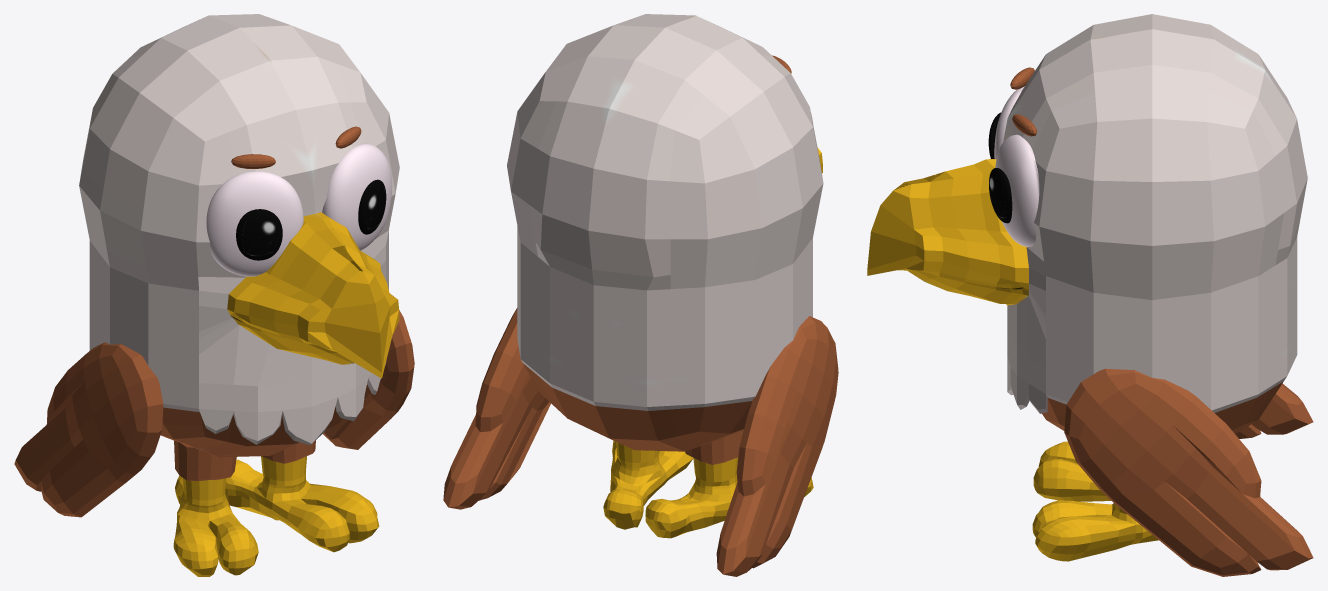
Rendered from aguia_final.glb.
3 renders of one model, left to right at view 1: azimuth 30°, elevation 25°; view 2: azimuth 150°, elevation 25°; view 3: azimuth 270°, elevation 25°, orthographic.
Parts seen in each view (by area): view 1: Cube, Cube.004, Cube.006, Cube.002, Cube.005, Cube.008, Cube.007, Cube.003; view 2: Cube, Cube.004, Cube.007, Cube.005, Cube.006; view 3: Cube, Cube.007, Cube.006, Cube.008, Cube.005, Cube.004, Cube.002.
Boxes of the visible parts, left/top/right/bottom form: Cube: left=79, top=14, right=399, bottom=457; Cube.004: left=14, top=342, right=163, bottom=517; Cube.006: left=225, top=440, right=379, bottom=552; Cube.002: left=206, top=171, right=303, bottom=276; Cube.005: left=173, top=440, right=258, bottom=576; Cube.008: left=322, top=143, right=391, bottom=250; Cube.007: left=323, top=310, right=414, bottom=449; Cube.003: left=231, top=154, right=275, bottom=168; Cube: left=507, top=14, right=823, bottom=451; Cube.004: left=716, top=316, right=838, bottom=576; Cube.007: left=443, top=308, right=550, bottom=509; Cube.005: left=645, top=429, right=813, bottom=538; Cube.006: left=603, top=440, right=693, bottom=529; Cube: left=867, top=14, right=1307, bottom=433; Cube.007: left=1064, top=368, right=1313, bottom=576; Cube.006: left=1032, top=500, right=1158, bottom=561; Cube.008: left=989, top=134, right=1039, bottom=246; Cube.005: left=1033, top=441, right=1111, bottom=501; Cube.004: left=1235, top=383, right=1313, bottom=438; Cube.002: left=988, top=86, right=1024, bottom=158.
Bounding box in the file's own units: 1.53 × 2.35 × 1.92.
Materials: 5 (5 with a texture image).
